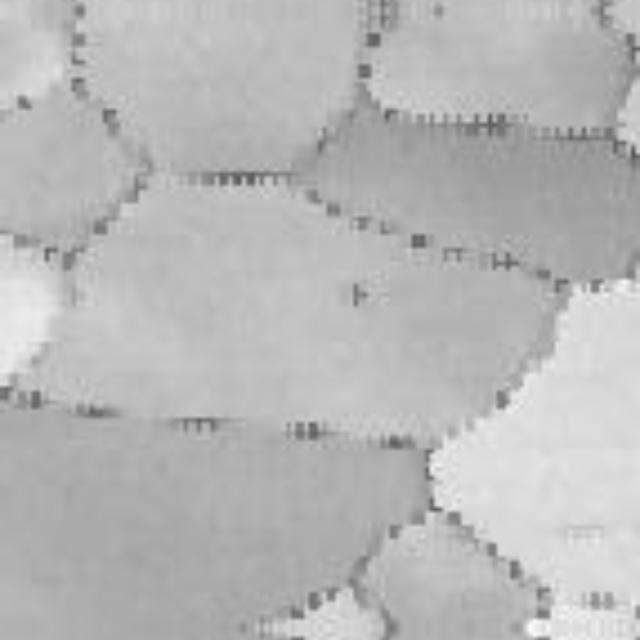good_void: (340, 279, 373, 311)
